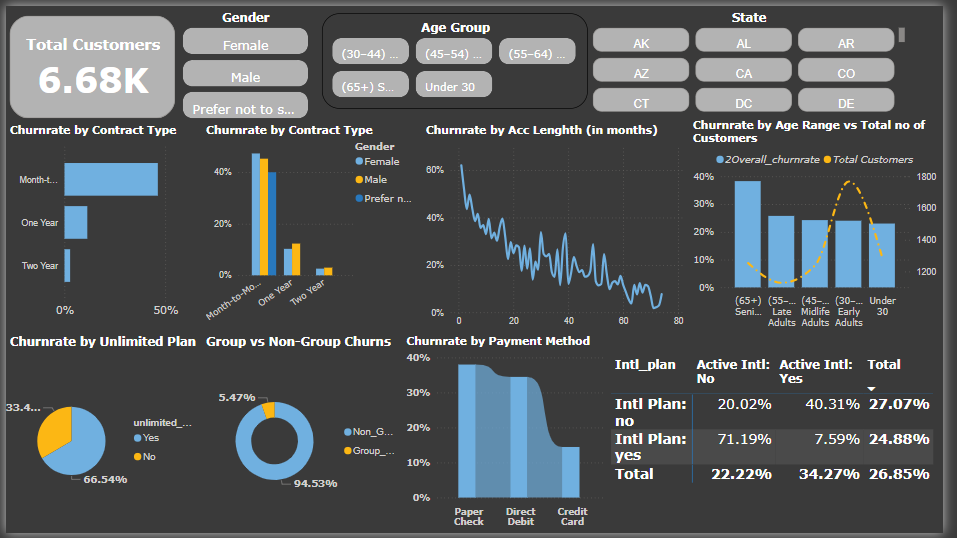

What the dashboard file says about the page in this screenshot:
{"tool":"powerbi","page":{"name":"Page 1","canvas":[1280,720],"ordinal":0},"visuals":[{"type":"donutChart","title":"Group vs Non-Group Churns","fields":{"Y":["Vertex_Cleaned.Non_Group_Churns","Vertex_Cleaned.Group_Churns"]},"box":[267.9,448.4,278.2,272.3],"z":0},{"type":"clusteredColumnChart","title":"Churnrate by Contract Type","fields":{"Category":["Vertex_Cleaned.contract_type"],"Series":["Vertex Mobile Net - Data.Gender"],"Y":["Vertex_Cleaned.2Overall_churnrate"]},"box":[268.3,160,300,290],"z":1000},{"type":"pieChart","title":"Churnrate by Unlimited Plan","fields":{"Y":["Vertex_Cleaned.Overall_churnrate"],"Category":["Vertex_Cleaned.unlimited_data_plan"]},"box":[0,448.4,267.9,272.3],"z":2000},{"type":"pivotTable","fields":{"Rows":["Vertex_Cleaned.Intl_plan"],"Columns":["Vertex_Cleaned.Intl_active"],"Values":["Vertex_Cleaned.2Overall_churnrate"]},"box":[821.6,474,458.9,231.7],"z":3000},{"type":"lineChart","title":"Churnrate by Acc Lenghth (in months)","fields":{"Category":["Vertex_Cleaned.acc_len(in months)"],"Y":["Vertex_Cleaned.2Overall_churnrate"]},"box":[568.3,160,365,286.7],"z":4000},{"type":"ribbonChart","title":"Churnrate by Payment Method","fields":{"Category":["Vertex_Cleaned.payment_method"],"Y":["Vertex_Cleaned.2Overall_churnrate"]},"box":[541.7,448.4,279.7,272.3],"z":5000},{"type":"barChart","title":"Churnrate by Contract Type","fields":{"Y":["Vertex_Cleaned.2Overall_churnrate"],"Category":["Vertex_Cleaned.contract_type"]},"box":[0,160,268.3,275],"z":6000},{"type":"advancedSlicerVisual","fields":{"Values":["Vertex_Cleaned.Age Group"]},"box":[431.7,10,363.3,130],"z":7000},{"type":"cardVisual","title":"Total","fields":{"Data":["Vertex_Cleaned.Total Customers"]},"box":[0,8.3,236.7,150],"z":9000},{"type":"lineClusteredColumnComboChart","title":"Churnrate by Age Range vs Total no of Customers","fields":{"Category":["Vertex_Cleaned.Age Group"],"Y":["Vertex_Cleaned.2Overall_churnrate"],"Y2":["Vertex_Cleaned.Total Customers"]},"box":[933.3,153.3,346.7,295],"z":11000},{"type":"advancedSlicerVisual","fields":{"Values":["Vertex_Cleaned.Gender"]},"box":[236.7,5,181.7,155],"z":11001},{"type":"advancedSlicerVisual","fields":{"Values":["Vertex_Cleaned.State"]},"box":[796.7,5,436.7,145],"z":11002}]}

Visuals, with their boxes in screenshot pixels (x1, y1, x2, y2), scaled from the page's 1280x720 canvas onto the 957x538 screenshot:
"Group vs Non-Group Churns" donutChart: box(200, 335, 408, 537)
"Churnrate by Contract Type" clusteredColumnChart: box(201, 120, 425, 336)
"Churnrate by Unlimited Plan" pieChart: box(0, 335, 200, 537)
pivotTable - Vertex_Cleaned.Intl_plan x Vertex_Cleaned.Intl_active: box(614, 354, 956, 527)
"Churnrate by Acc Lenghth (in months)" lineChart: box(425, 120, 698, 334)
"Churnrate by Payment Method" ribbonChart: box(405, 335, 614, 537)
"Churnrate by Contract Type" barChart: box(0, 120, 201, 325)
advancedSlicerVisual - Vertex_Cleaned.Age Group: box(323, 7, 594, 105)
"Total" cardVisual: box(0, 6, 177, 118)
"Churnrate by Age Range vs Total no of Customers" lineClusteredColumnComboChart: box(698, 115, 956, 335)
advancedSlicerVisual - Vertex_Cleaned.Gender: box(177, 4, 313, 120)
advancedSlicerVisual - Vertex_Cleaned.State: box(596, 4, 922, 112)
